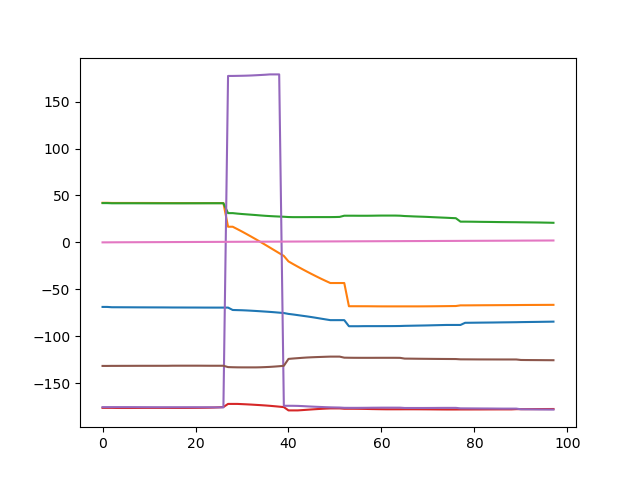Too_Fast: (3, 1, 640, 480)
